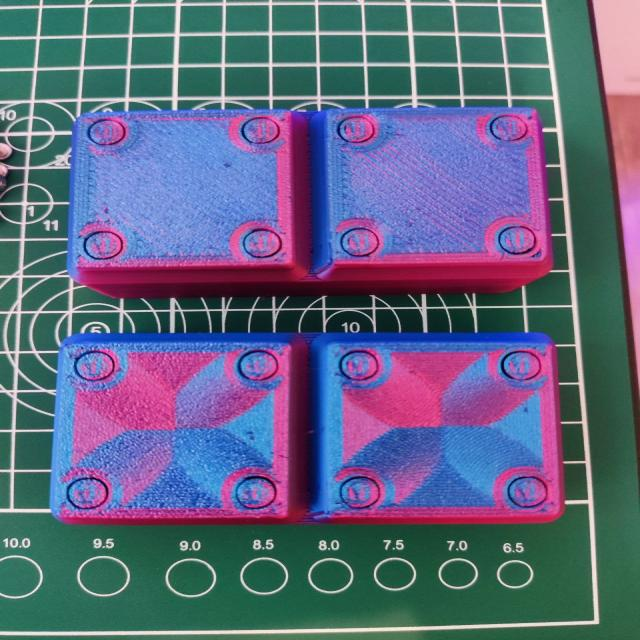Without deffect: (53, 105, 584, 531)
